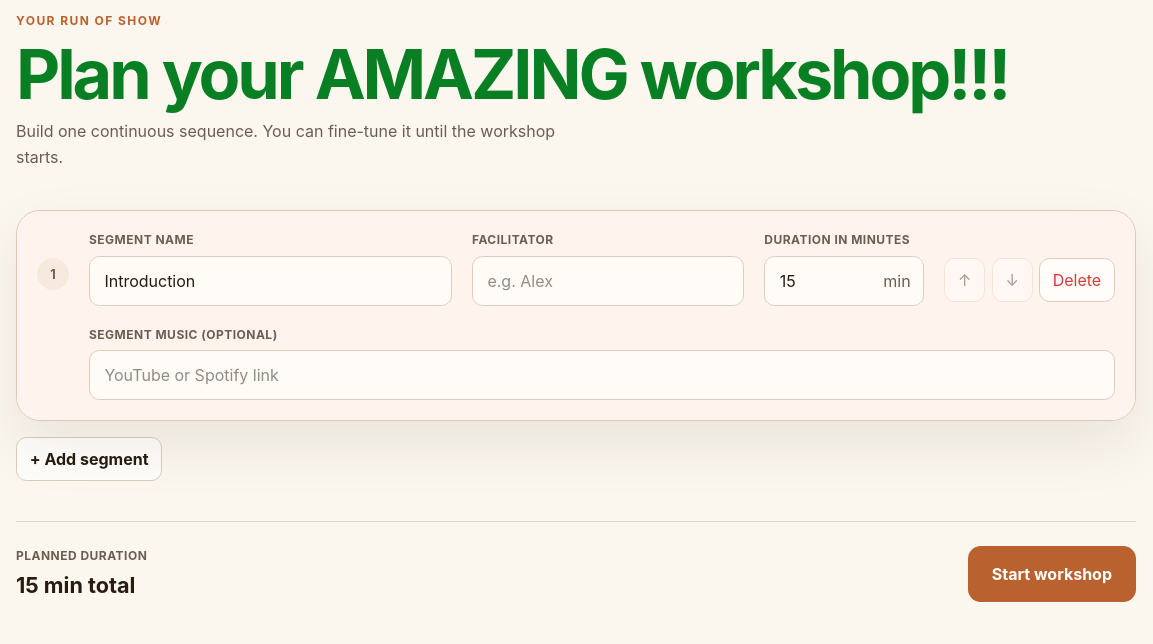
Test: PlanEditor › rejects invalid music links and blocks starting
The image size is (1153, 644).
Step 1. Type "https://example.com/not-music" into the field labelled "Segment music (optional)" → (602,375), box [89, 350, 1115, 400]
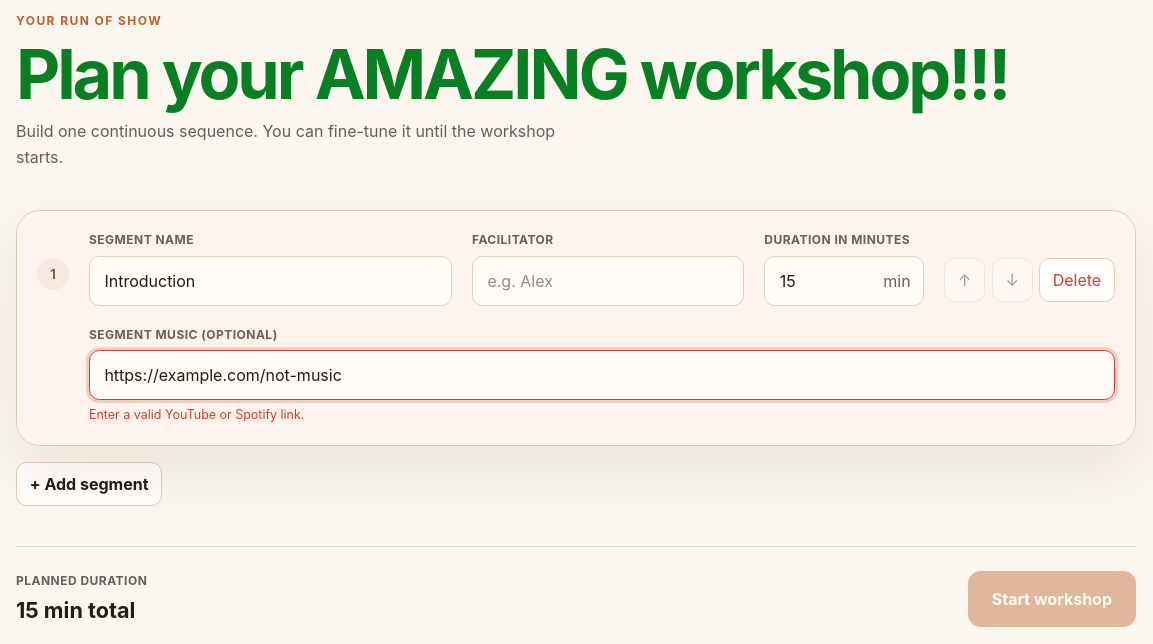
Expected: the text "Enter a valid YouTube or Spotify link." is shown, [89, 407, 304, 422]
Expected: the button "Start workshop" is disabled, [968, 571, 1136, 627]
